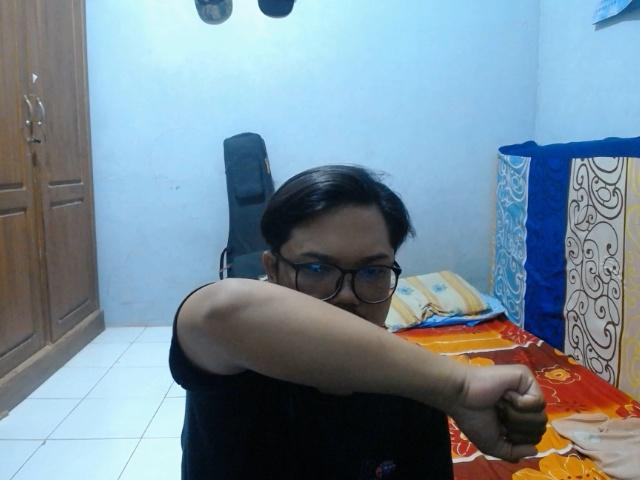Grab: (453, 359, 548, 468)
